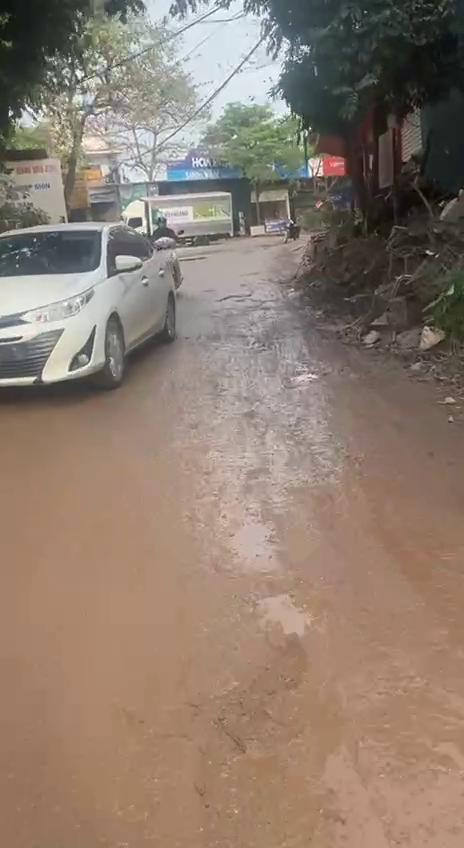pothole: (212, 506, 314, 644)
